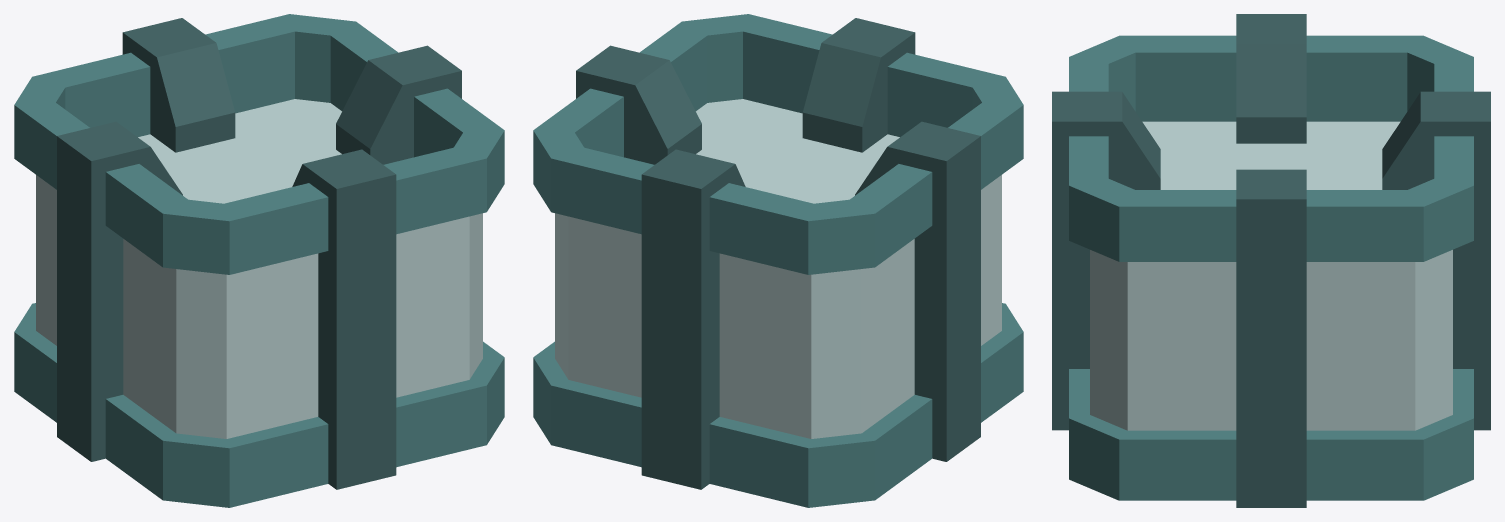
File: TP_Sci-fi011.fbx
The picture shows the model from 3 angles, left to right: view 1: azimuth 30°, elevation 25°; view 2: azimuth 150°, elevation 25°; view 3: azimuth 270°, elevation 25°; orthographic projection. The views are drawn at different scales.
Visible parts, largest first — view 1: TP_Sci_fi011; view 2: TP_Sci_fi011; view 3: TP_Sci_fi011.
Part boxes in pixels (left/top/right/bottom): TP_Sci_fi011: left=14, top=14, right=504, bottom=507; TP_Sci_fi011: left=533, top=14, right=1023, bottom=507; TP_Sci_fi011: left=1052, top=14, right=1490, bottom=507.
Size of the model in its own units: 71.39 by 55.37 by 71.39.
1 material, 1 textured.
